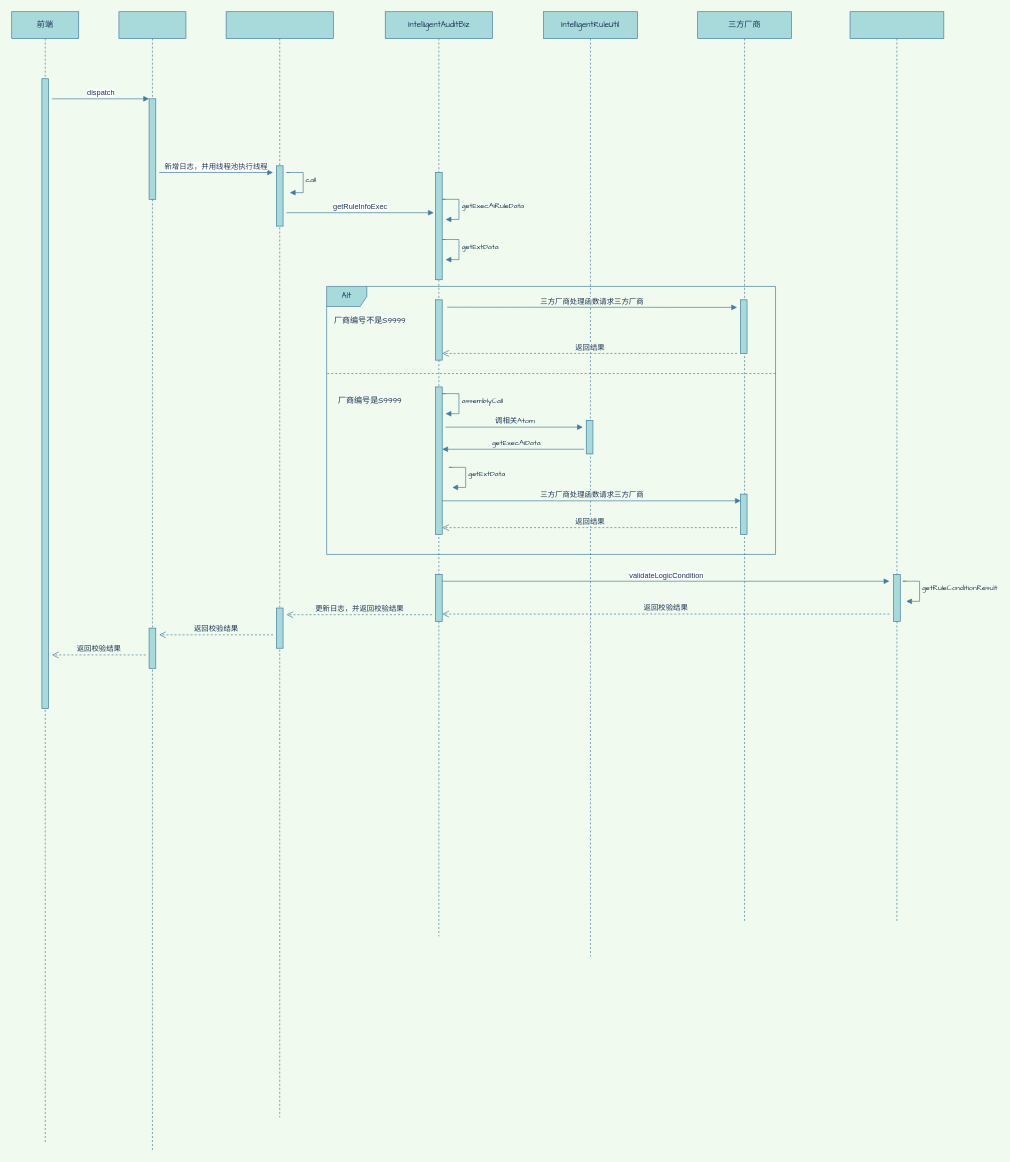
Image size: 1010x1162. Some labels were removed from this diagram. The shapes that lost their labels are listed below. From the top down, each one's box as (x1, y1, x2, y2) in pixels, then its label:
(849, 11, 944, 923): IntelligentUtil
(118, 11, 186, 1151): CheckRuleInfo
(225, 11, 333, 1117): BathRuleInfoExecHandler
